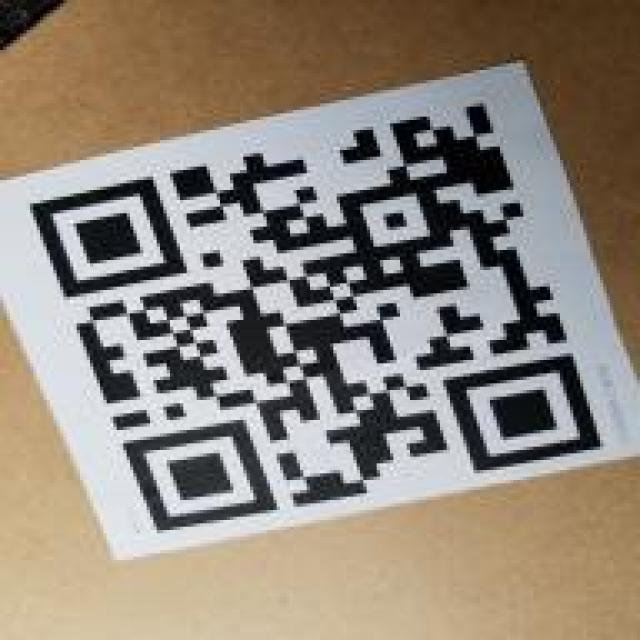qr_code: (28, 100, 603, 534)
